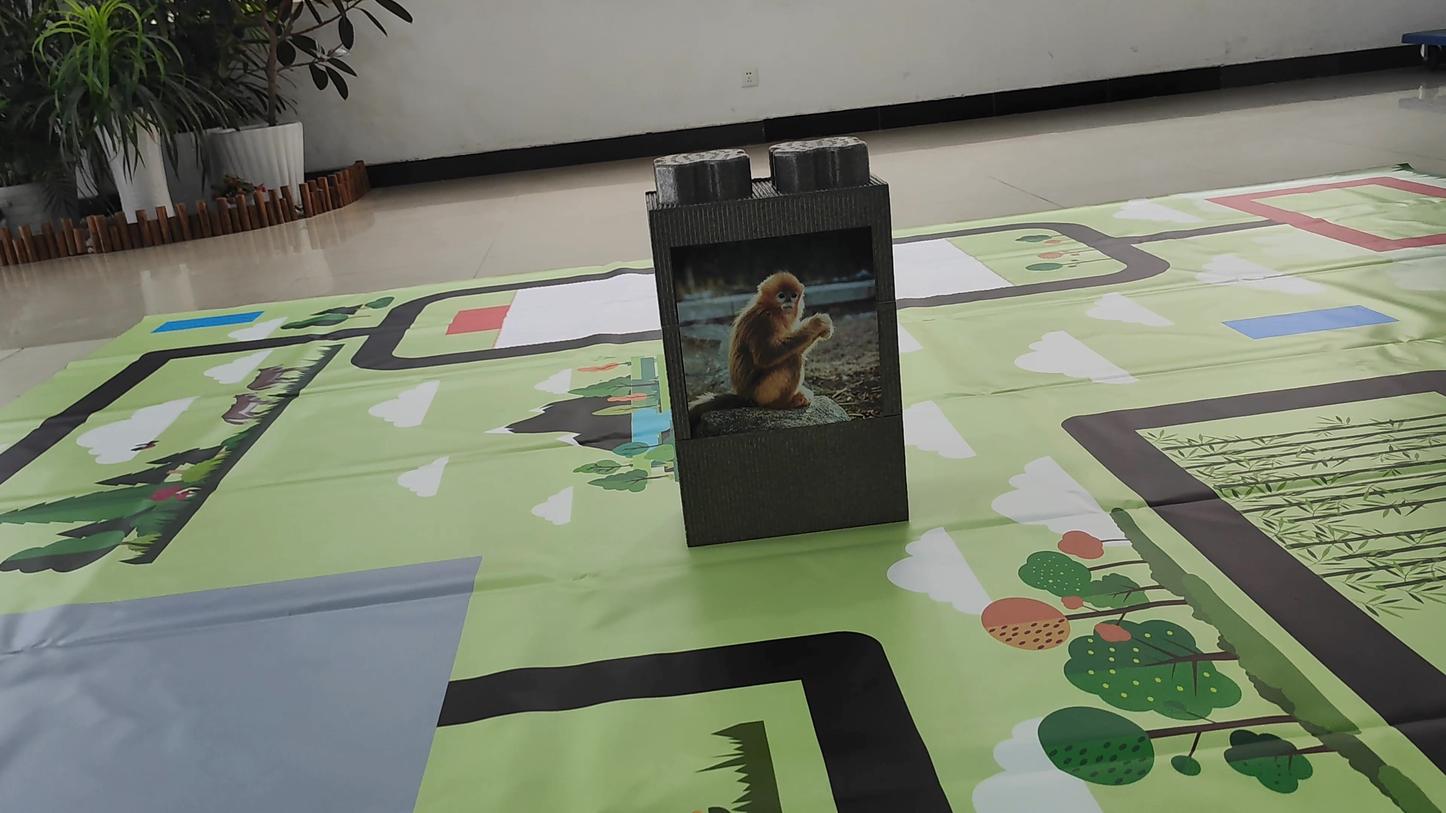monkey: (679, 248, 852, 431)
